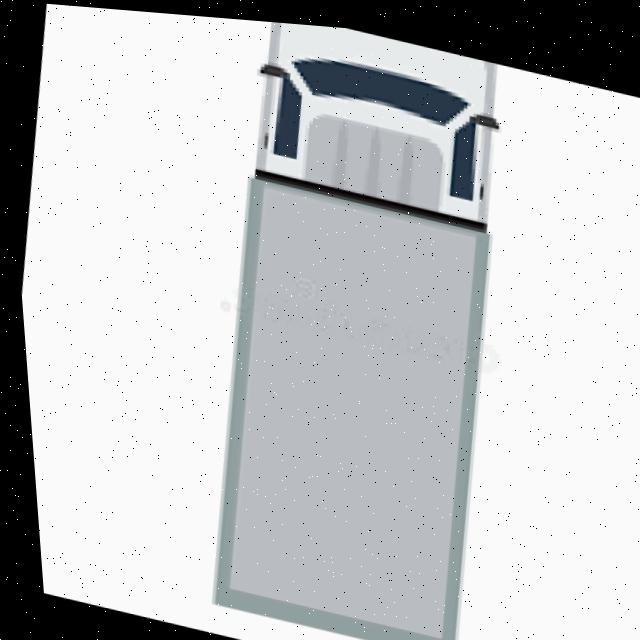truck: (163, 10, 545, 640)
